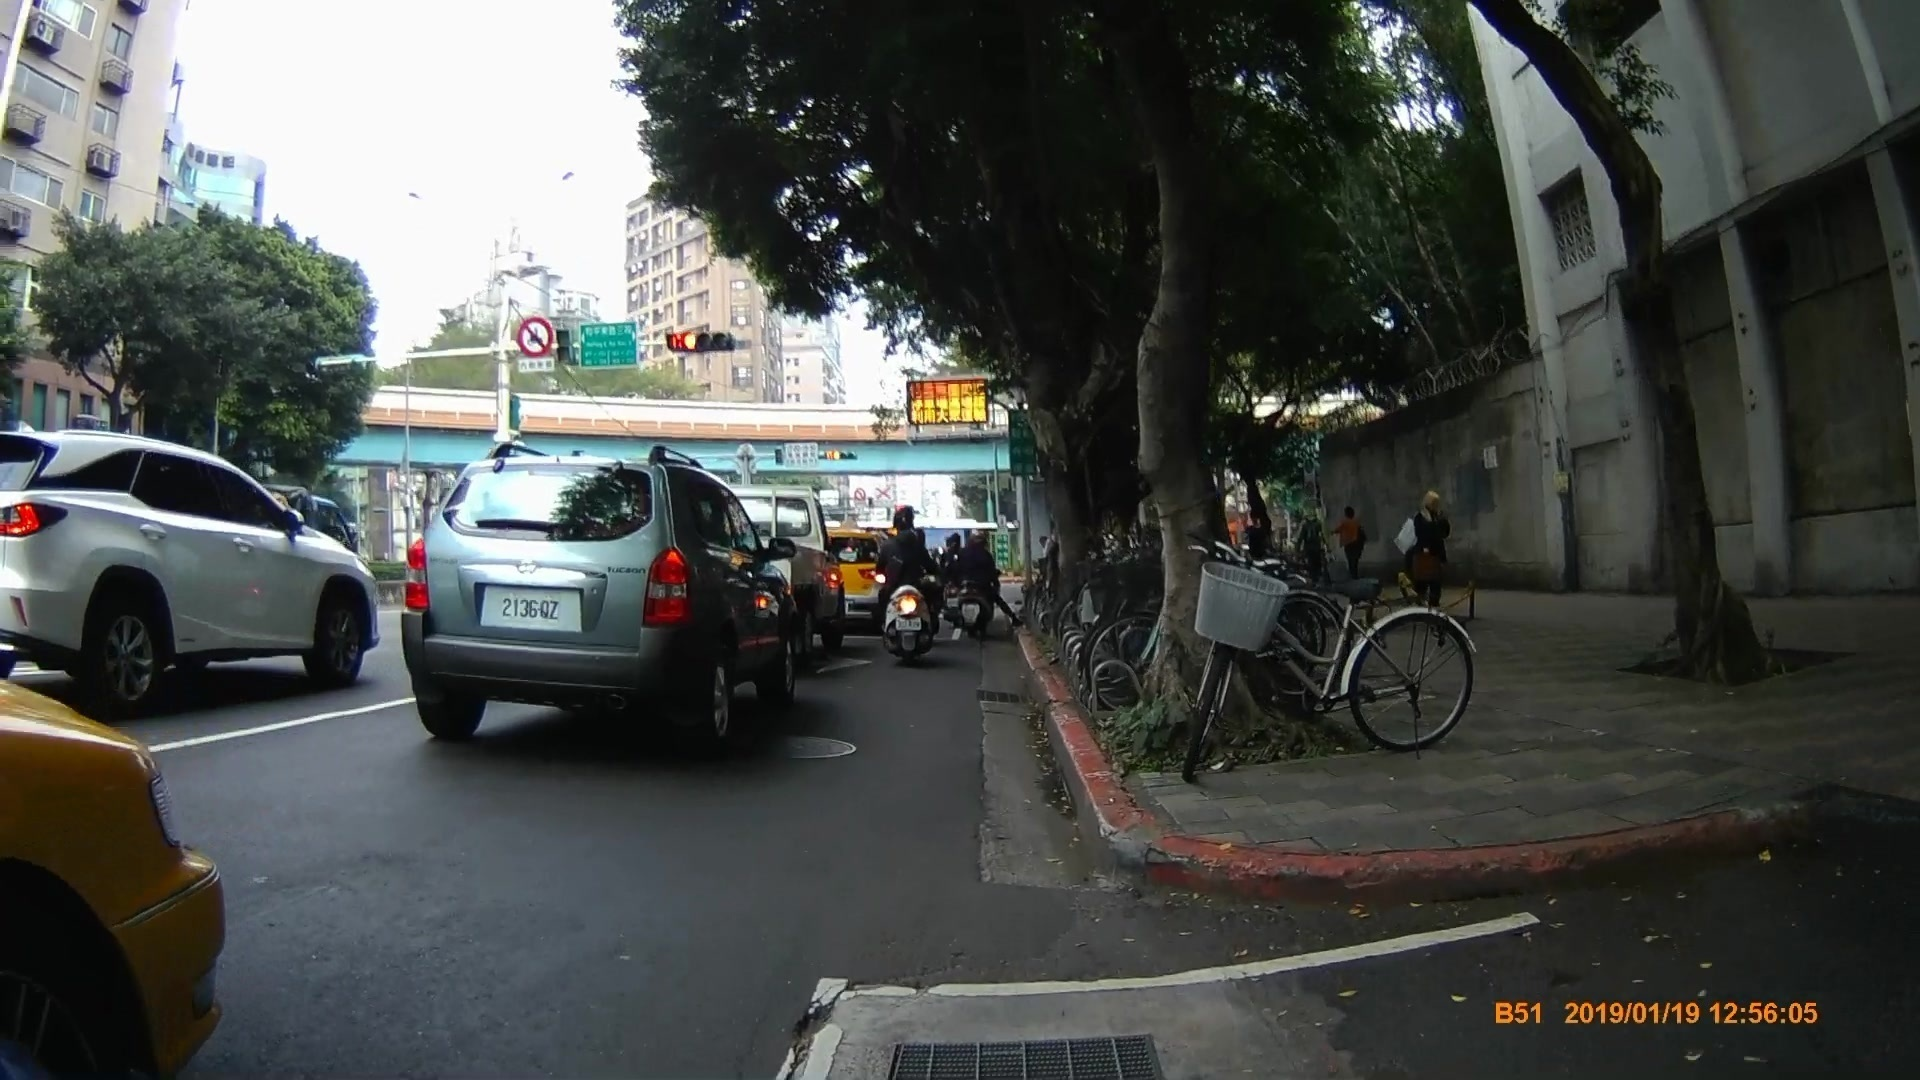License_plate: (499, 588, 562, 624)
